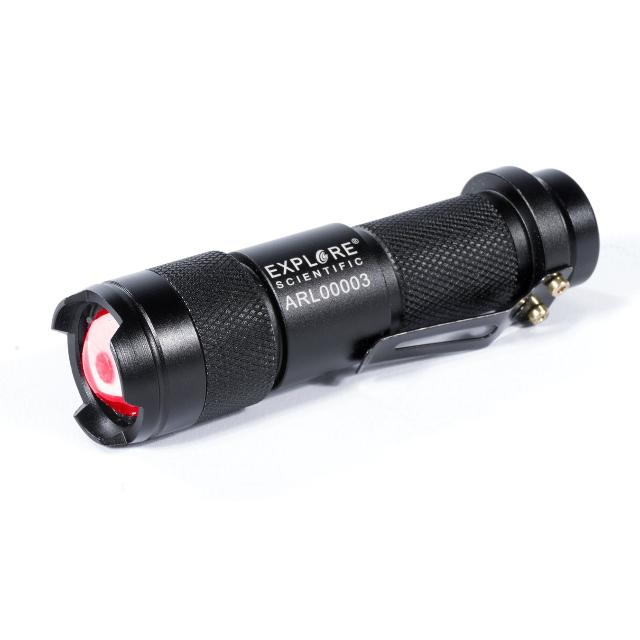Flashlight: (41, 158, 605, 450)
